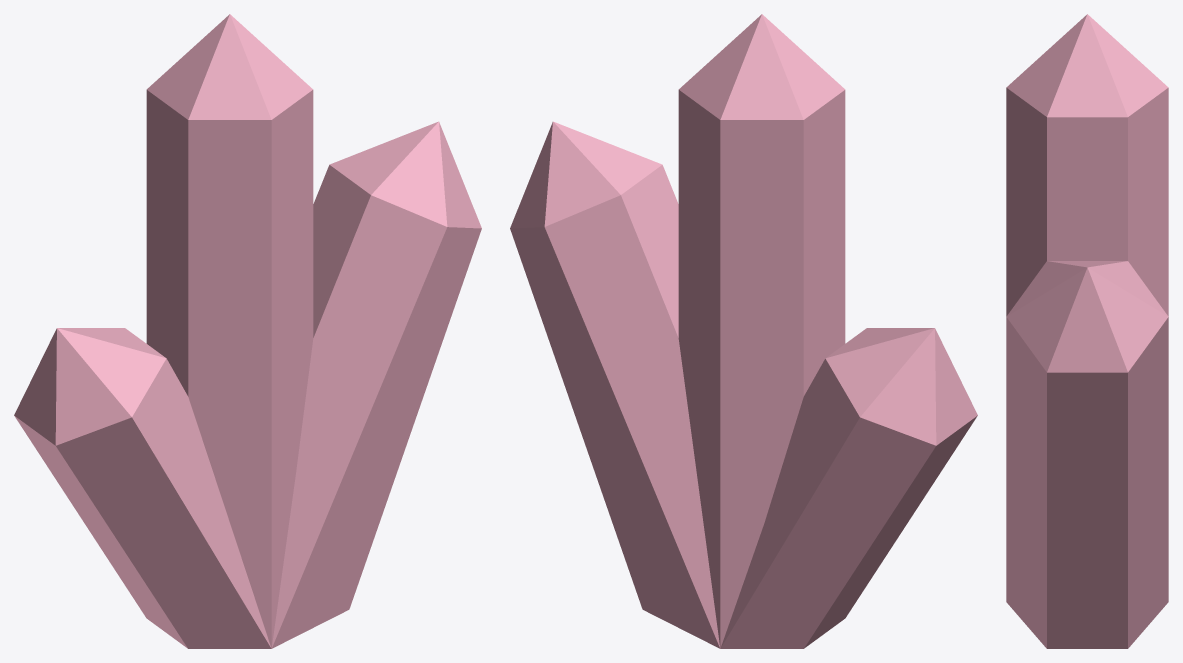
Rendered from pink_cave_crystal.obj.
3 views of the same model, side by side, from view 1: azimuth 30°, elevation 25°; view 2: azimuth 150°, elevation 25°; view 3: azimuth 270°, elevation 25° (orthographic). The views are drawn at different scales.
Parts seen in each view (by area): view 1: main; view 2: main; view 3: main.
Boxes of the visible parts, x1,y1,x2,y2 form: main: (14, 14, 481, 648); main: (510, 14, 977, 648); main: (1006, 14, 1168, 648).
Size of the model in its own units: 0.7381 by 1 by 0.25.
